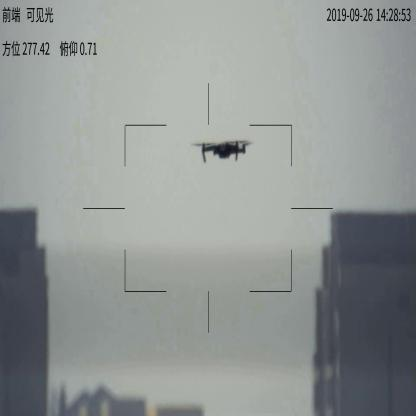uav: (192, 142, 256, 169)
